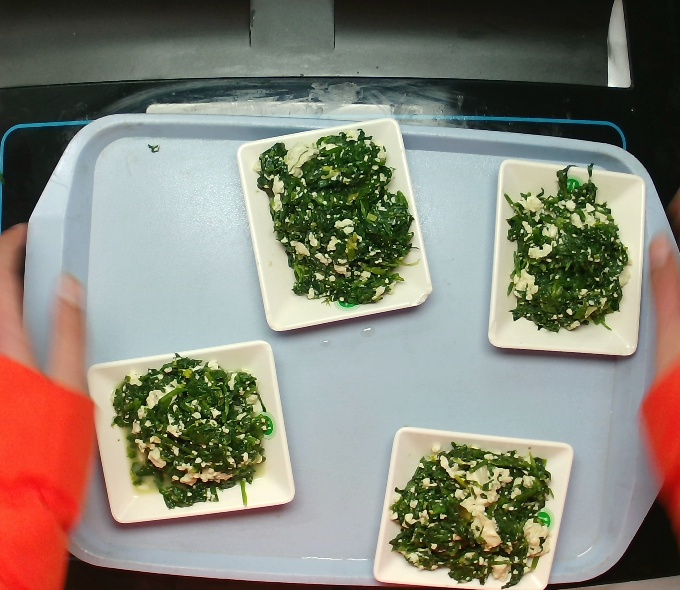wcq-QinCaiYeDouFu: (252, 125, 421, 312), (382, 430, 565, 589), (108, 351, 282, 512), (493, 167, 636, 341)
